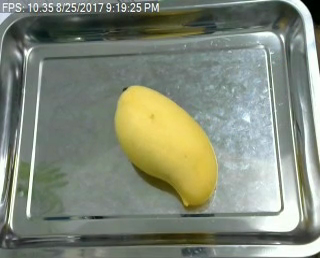Mango: (107, 80, 224, 209)
